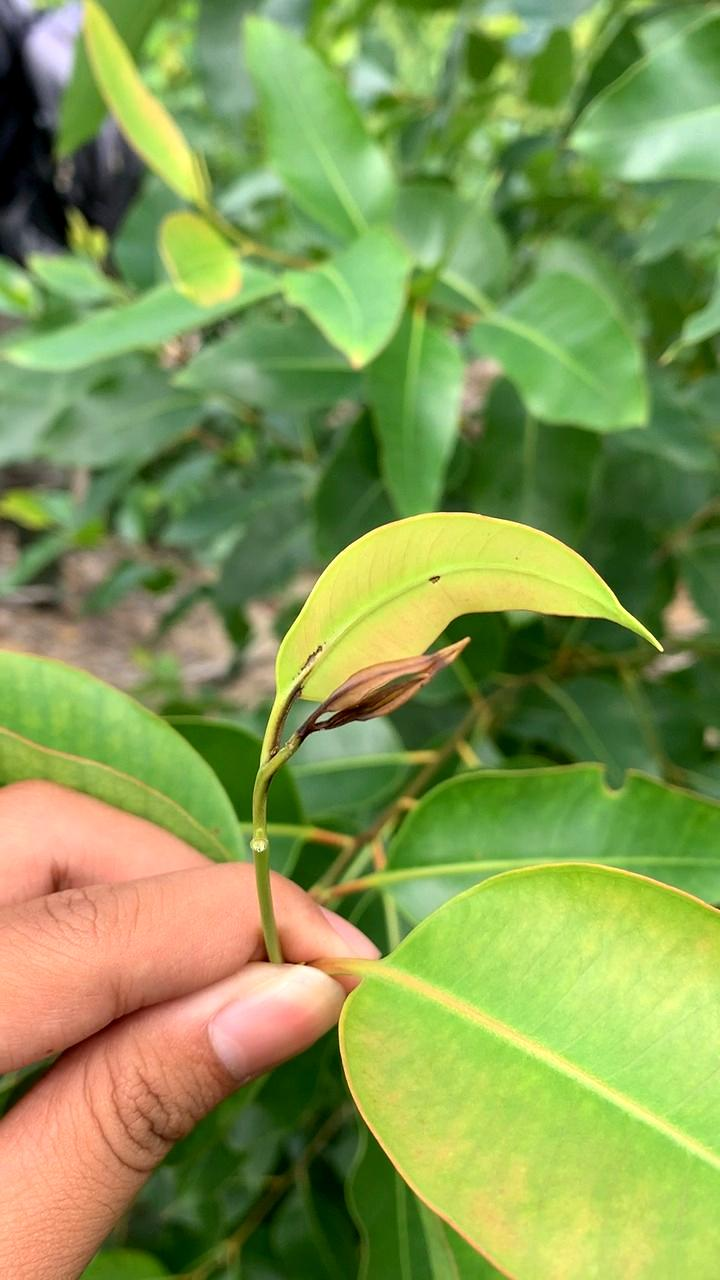Helopeltis-Withered Sprout: (279, 628, 496, 761)
